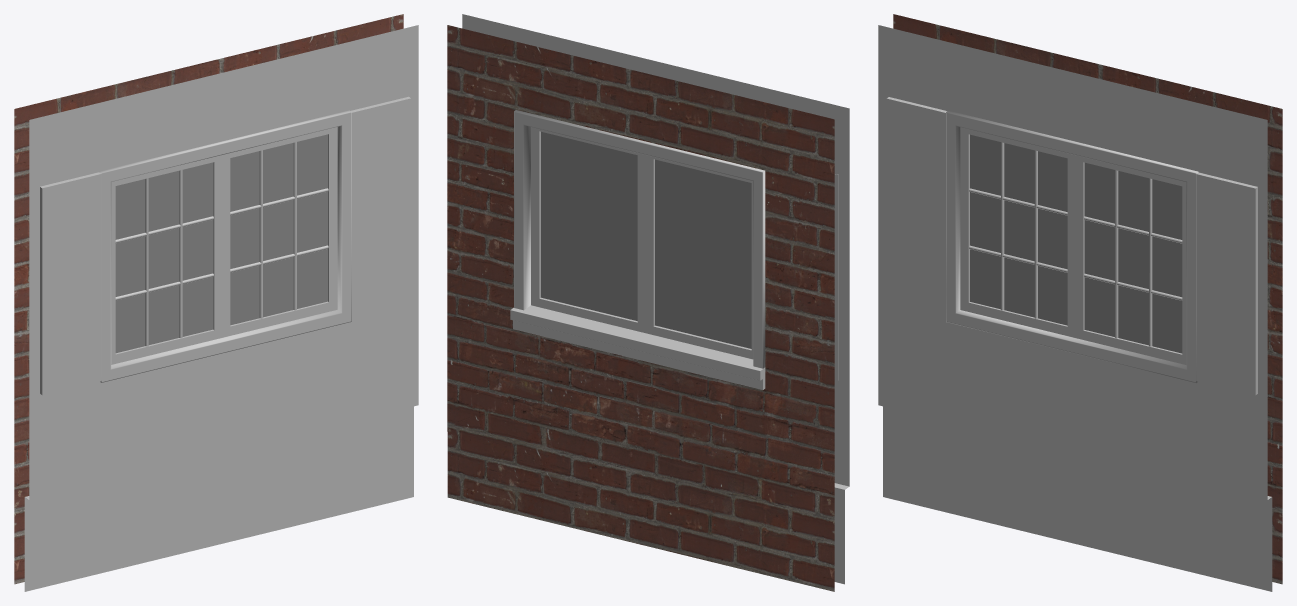
The model's file is In_WallDown_Window_Double_3x.FBX.
3 renders of one model, left to right at view 1: azimuth 30°, elevation 25°; view 2: azimuth 150°, elevation 25°; view 3: azimuth 330°, elevation 25°, orthographic.
Parts seen in each view (by area): view 1: WallDown_Window_Double_3x; view 2: WallDown_Window_Double_3x; view 3: WallDown_Window_Double_3x.
Boxes of the visible parts, <box> form: WallDown_Window_Double_3x: <box>14,14,418,591</box>; WallDown_Window_Double_3x: <box>447,14,849,591</box>; WallDown_Window_Double_3x: <box>878,14,1282,591</box>.
Size of the model in its own units: 300 by 350 by 29.86.
